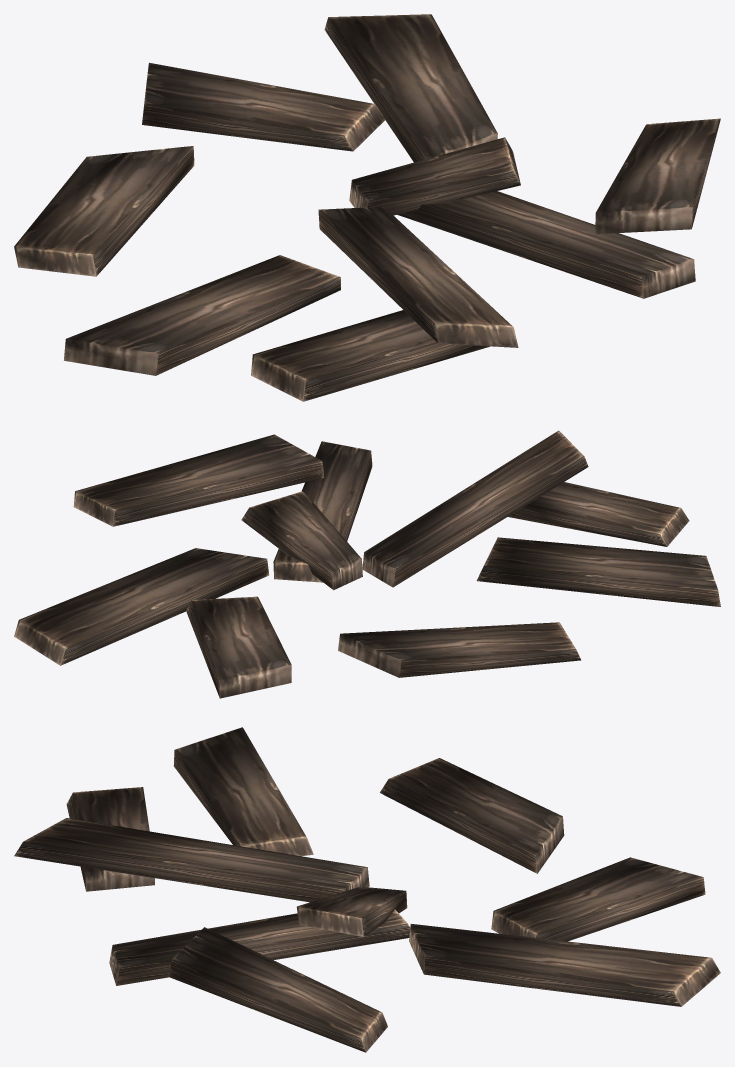
The model's file is darkironwoodplanks03.obj.
3 renders of one model, top to bottom at view 1: azimuth 30°, elevation 25°; view 2: azimuth 150°, elevation 25°; view 3: azimuth 270°, elevation 25°, orthographic. The views are drawn at different scales.
Visible parts, largest first — view 1: darkironwoodplanks03; view 2: darkironwoodplanks03; view 3: darkironwoodplanks03.
Boxes of the visible parts, x1,y1,x2,y2 form: darkironwoodplanks03: (14, 14, 720, 401); darkironwoodplanks03: (14, 430, 720, 698); darkironwoodplanks03: (14, 727, 720, 1052).
Size of the model in its own units: 8.38 by 0.5947 by 8.13.
Materials: 1 (1 with a texture image).
